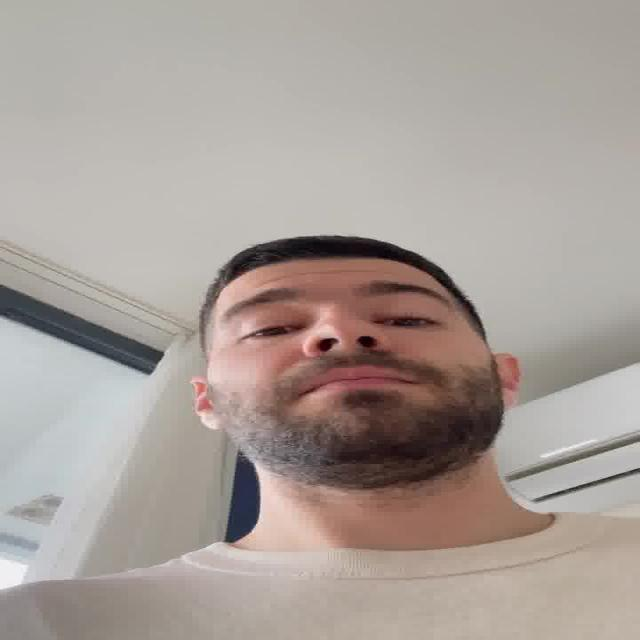earlobe: (486, 351, 525, 412), (189, 374, 229, 432)
